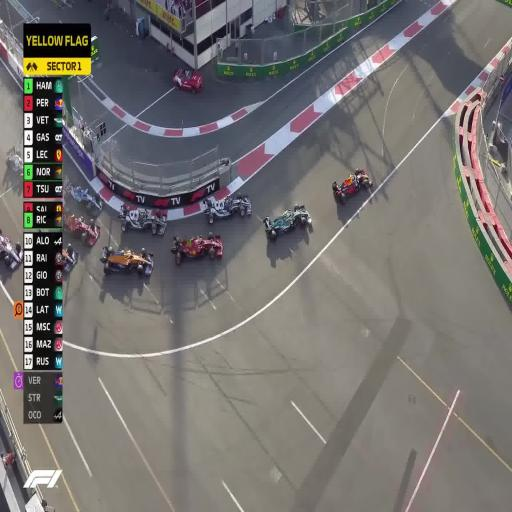f1_car: (263, 205, 311, 240), (171, 233, 223, 265), (99, 246, 153, 276), (63, 178, 103, 216), (332, 168, 372, 203), (119, 205, 166, 234), (203, 195, 251, 223), (63, 212, 99, 246), (0, 229, 23, 269), (173, 68, 202, 92), (62, 244, 78, 274), (6, 147, 23, 174)
